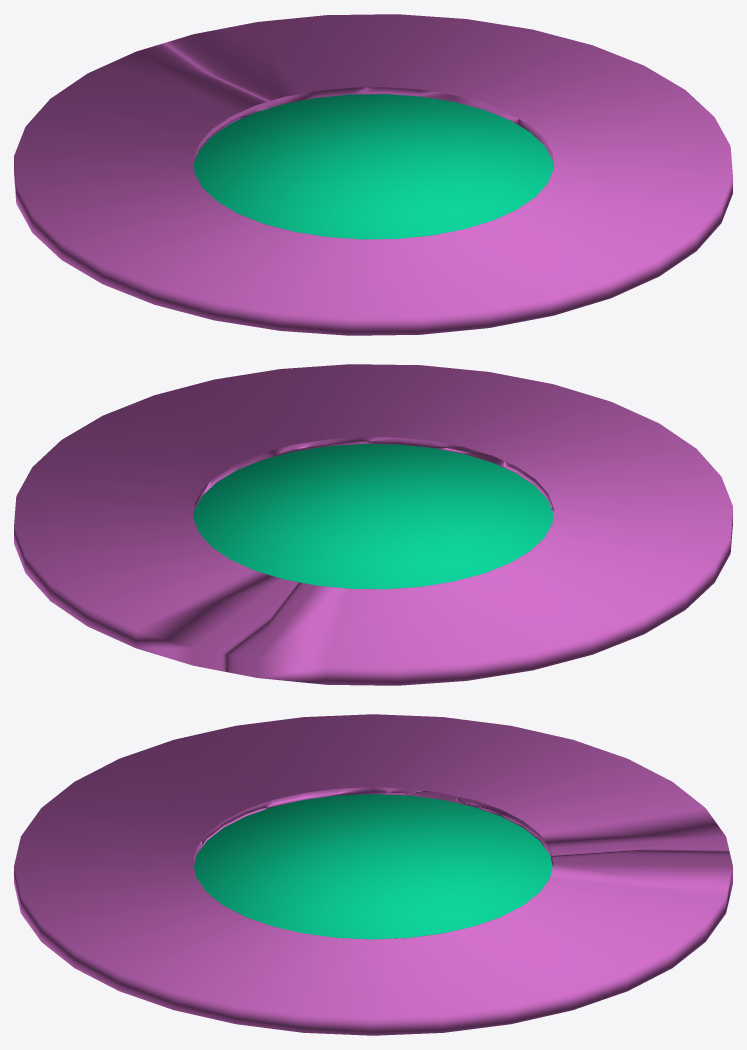
File: Kiekko.fbx
3 renders of one model, top to bottom at view 1: azimuth 30°, elevation 25°; view 2: azimuth 150°, elevation 25°; view 3: azimuth 270°, elevation 25°, orthographic.
Parts seen in each view (by area): view 1: Circle, Cylinder; view 2: Circle, Cylinder; view 3: Circle, Cylinder.
Boxes of the visible parts, x1=… form: Circle: x1=14, y1=14, x2=732, y2=335; Cylinder: x1=193, y1=94, x2=553, y2=239; Circle: x1=14, y1=364, x2=732, y2=685; Cylinder: x1=194, y1=444, x2=553, y2=589; Circle: x1=14, y1=714, x2=732, y2=1035; Cylinder: x1=194, y1=794, x2=552, y2=939.
Size of the model in its own units: 3.96 by 0.1358 by 3.96.
